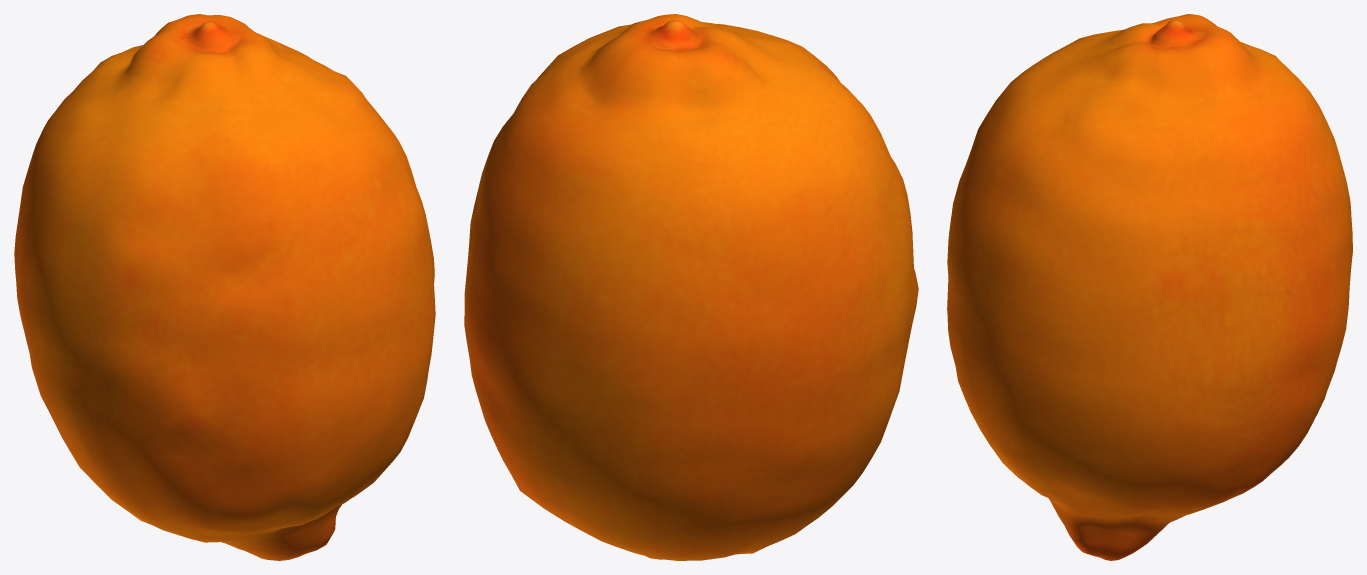
File: nyb_godfather_orange.glb
The picture shows the model from 3 angles, left to right: view 1: azimuth 30°, elevation 25°; view 2: azimuth 150°, elevation 25°; view 3: azimuth 270°, elevation 25°; orthographic projection. The views are drawn at different scales.
Parts seen in each view (by area): view 1: lemon; view 2: lemon; view 3: lemon.
Part boxes in pixels (bbox=[...]): lemon: bbox=[14, 14, 435, 560]; lemon: bbox=[464, 14, 918, 560]; lemon: bbox=[947, 14, 1352, 560].
Size of the model in its own units: 0.0687 by 0.0954 by 0.0683.
1 material, 1 textured.
